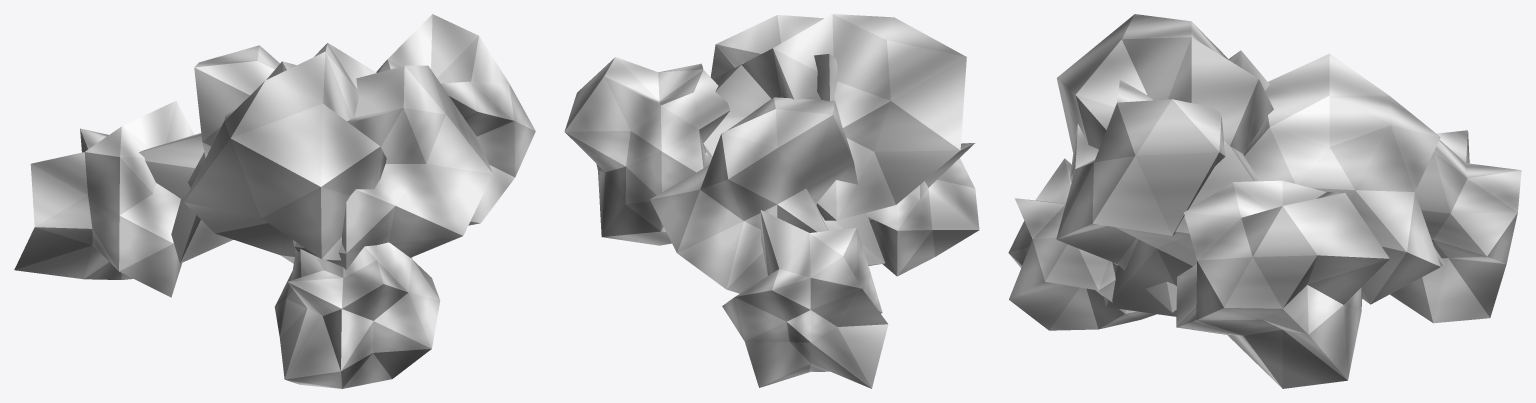
Rendered from earth-shards.glb.
3 renders of one model, left to right at view 1: azimuth 30°, elevation 25°; view 2: azimuth 150°, elevation 25°; view 3: azimuth 270°, elevation 25°, orthographic. The views are drawn at different scales.
Visible parts, largest first — view 1: earth-shards; view 2: earth-shards; view 3: earth-shards.
Part boxes in pixels (left/top/right/bottom): earth-shards: left=14, top=14, right=535, bottom=388; earth-shards: left=564, top=14, right=979, bottom=388; earth-shards: left=1008, top=14, right=1521, bottom=388.
Size of the model in its own units: 0.1144 by 0.0798 by 0.1189.
1 material, 1 textured.
